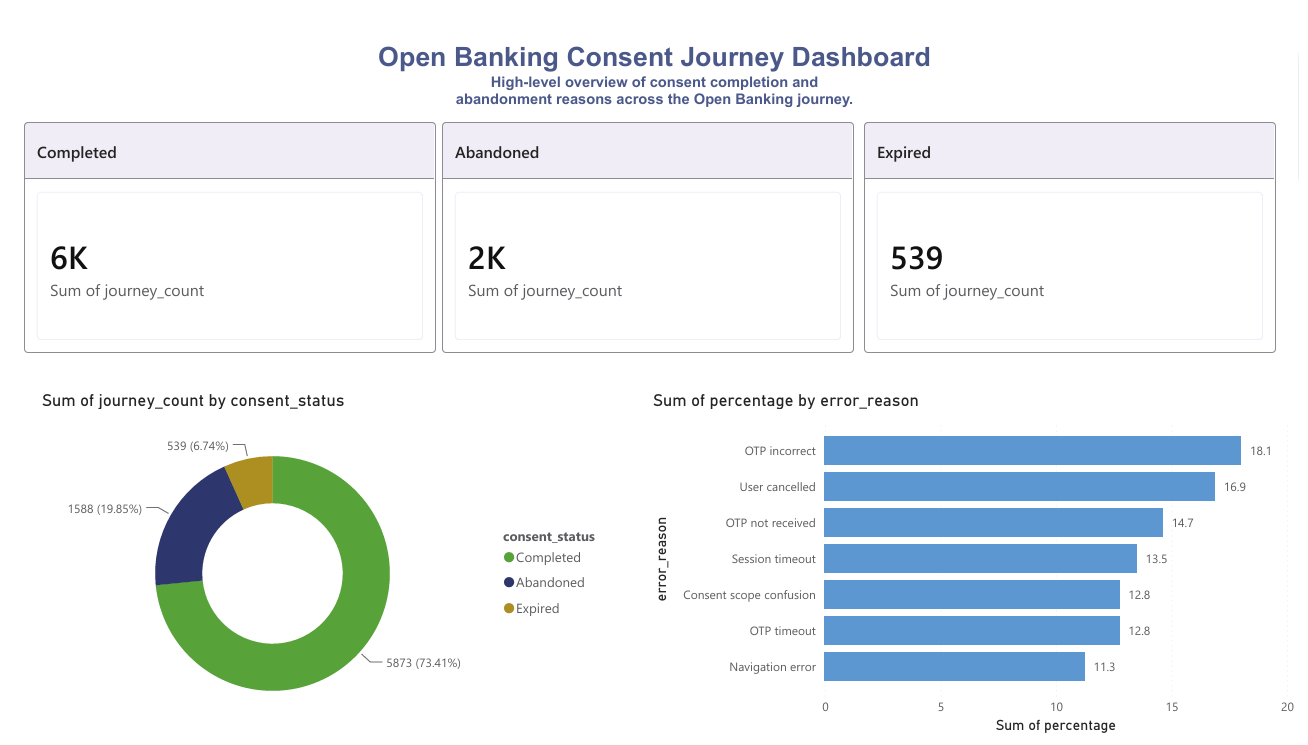

The dashboard page shown, as its layout file describes it:
{"tool":"powerbi","page":{"name":"Page 1","canvas":[1280,720],"ordinal":0},"visuals":[{"type":"donutChart","fields":{"Category":["public vw_consent_status_summary.consent_status"],"Y":["Sum(public vw_consent_status_summary.journey_count)"]},"box":[17.8,372.3,580.5,347.4],"z":0},{"type":"clusteredBarChart","fields":{"Category":["public vw_cba_abandoned_errors.error_reason"],"Y":["Sum(public vw_cba_abandoned_errors.percentage)"]},"box":[629.3,372.3,650.7,347.4],"z":1000},{"type":"cardVisual","fields":{"Data":["Sum(public vw_consent_status_summary.journey_count)"],"Rows":["public vw_consent_status_summary.consent_status"]},"box":[0,78.5,422.3,281.9],"z":2000},{"type":"cardVisual","fields":{"Data":["Sum(public vw_consent_status_summary.journey_count)"],"Rows":["public vw_consent_status_summary.consent_status"]},"box":[417.5,78.5,422.3,281.9],"z":3000},{"type":"cardVisual","fields":{"Data":["Sum(public vw_consent_status_summary.journey_count)"],"Rows":["public vw_consent_status_summary.consent_status"]},"box":[839.9,78.5,422.3,281.9],"z":4000},{"type":"textbox","box":[34.5,19,1202.7,76.1],"z":4001}]}

Visuals, with their boxes in screenshot pixels (x1, y1, x2, y2), scaled from the page's 1280x720 canvas onto the 1308x745 screenshot:
donutChart - public vw_consent_status_summary.consent_status x Sum(public vw_consent_status_summary.journey_count): x1=18, y1=385, x2=611, y2=744
clusteredBarChart - public vw_cba_abandoned_errors.error_reason x Sum(public vw_cba_abandoned_errors.percentage): x1=643, y1=385, x2=1307, y2=744
cardVisual - Sum(public vw_consent_status_summary.journey_count) x public vw_consent_status_summary.consent_status: x1=0, y1=81, x2=432, y2=373
cardVisual - Sum(public vw_consent_status_summary.journey_count) x public vw_consent_status_summary.consent_status: x1=427, y1=81, x2=858, y2=373
cardVisual - Sum(public vw_consent_status_summary.journey_count) x public vw_consent_status_summary.consent_status: x1=858, y1=81, x2=1290, y2=373
textbox: x1=35, y1=20, x2=1264, y2=98
